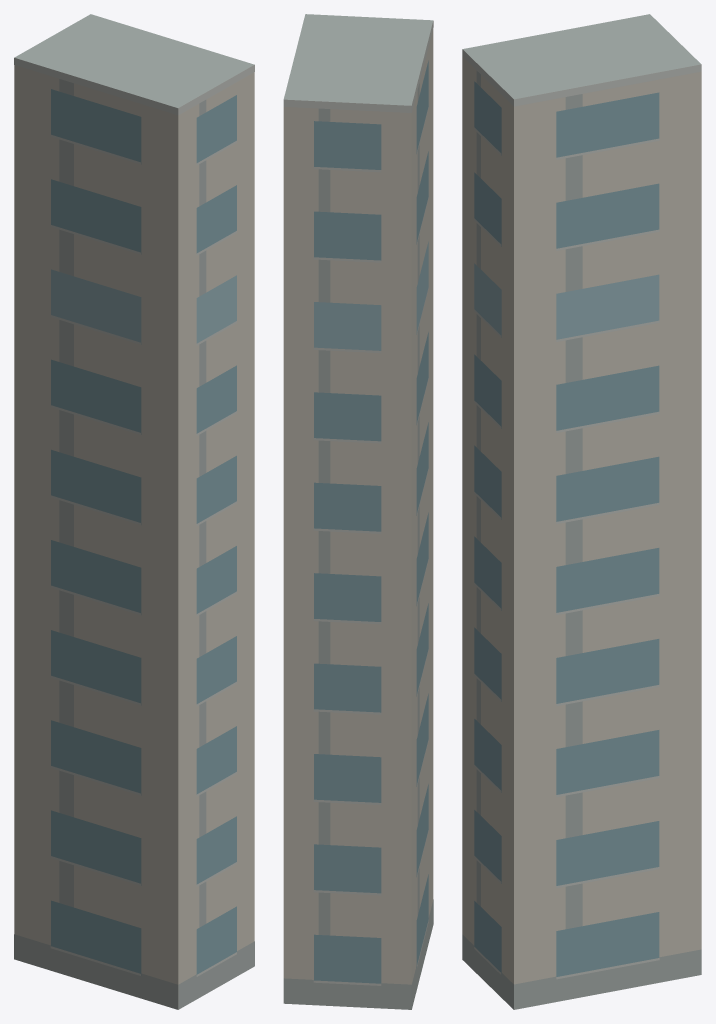
The model's file is survey-upis-32722159.glb.
3 renders of one model, left to right at view 1: azimuth 30°, elevation 25°; view 2: azimuth 150°, elevation 25°; view 3: azimuth 270°, elevation 25°, orthographic.
Visible parts, largest first — view 1: survey-upis-32722159.tmp; view 2: survey-upis-32722159.tmp; view 3: survey-upis-32722159.tmp.
Boxes of the visible parts, x1=… form: survey-upis-32722159.tmp: x1=14, y1=14, x2=254, y2=1009; survey-upis-32722159.tmp: x1=283, y1=14, x2=433, y2=1009; survey-upis-32722159.tmp: x1=462, y1=14, x2=701, y2=1009.
Bounding box in the file's own units: 6.15 × 30.5 × 7.27.
